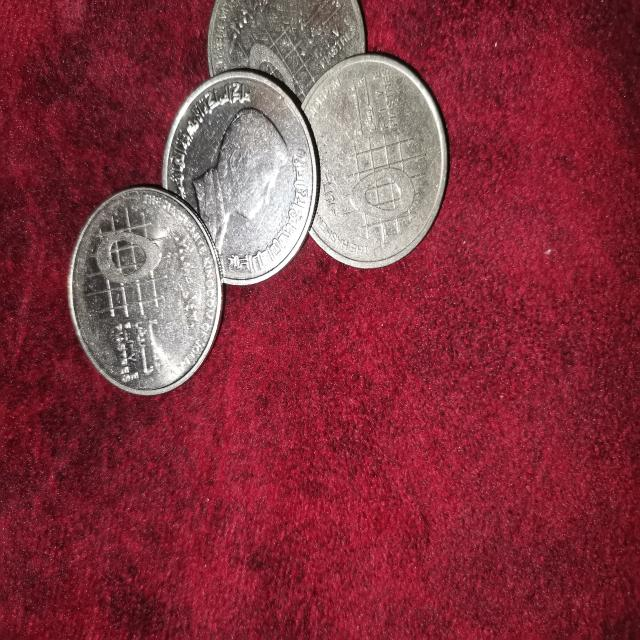5-coins: (160, 72, 318, 283), (294, 53, 450, 266), (67, 185, 223, 397), (206, 0, 368, 109)
